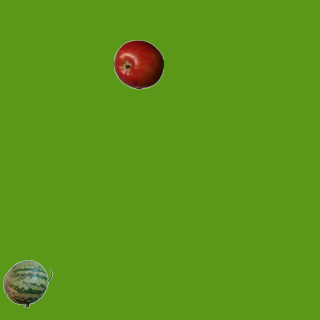Apple Braeburn: (113, 39, 163, 89)
Watermelon: (2, 258, 52, 308)
